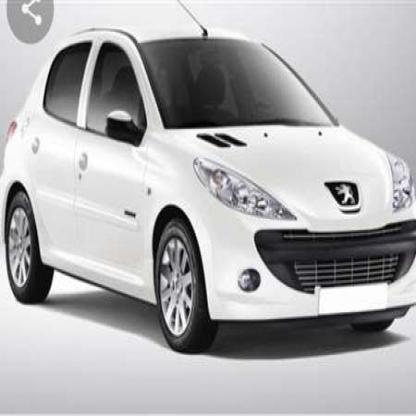Car: (0, 1, 416, 344)
